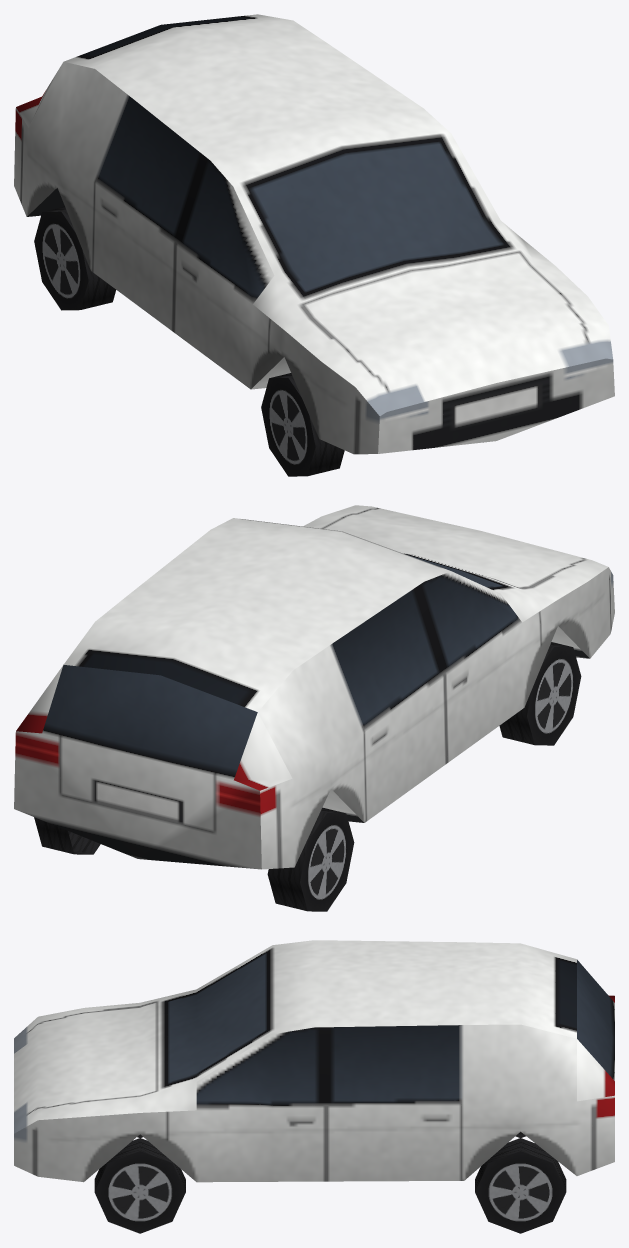
Rendered from SM_Morin_Auto_A_v2_Bianco_LOD2.fbx.
The picture shows the model from 3 angles, top to bottom: view 1: azimuth 30°, elevation 25°; view 2: azimuth 150°, elevation 25°; view 3: azimuth 270°, elevation 25°; orthographic projection. The views are drawn at different scales.
Parts seen in each view (by area): view 1: SM_Morin_Auto_A_v2_Bianco_LOD2; view 2: SM_Morin_Auto_A_v2_Bianco_LOD2; view 3: SM_Morin_Auto_A_v2_Bianco_LOD2.
Boxes of the visible parts, x1,y1,x2,y2 form: SM_Morin_Auto_A_v2_Bianco_LOD2: (14, 14, 614, 476); SM_Morin_Auto_A_v2_Bianco_LOD2: (14, 505, 614, 911); SM_Morin_Auto_A_v2_Bianco_LOD2: (14, 940, 614, 1233).
Bounding box in the file's own units: 174 × 395 × 150.
1 material, 1 textured.
